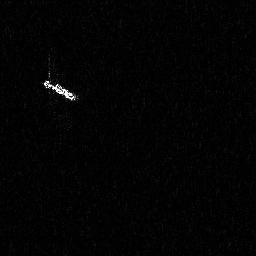ship: (42, 72, 81, 103)
